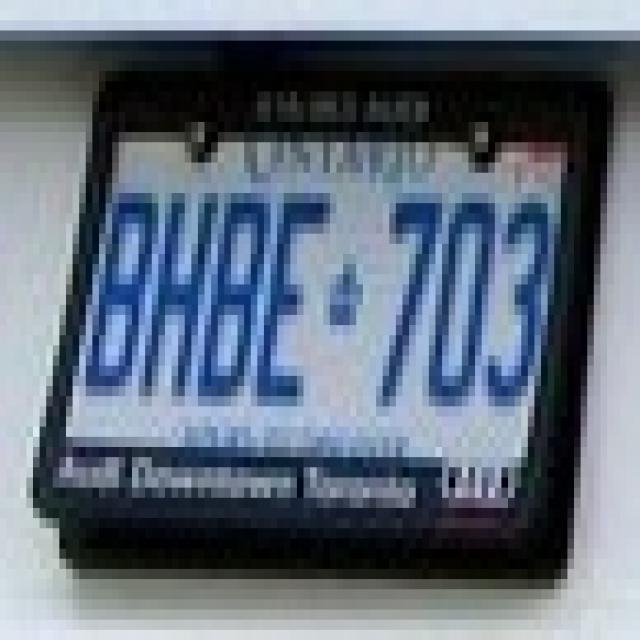licenseplate: (12, 20, 604, 621)
